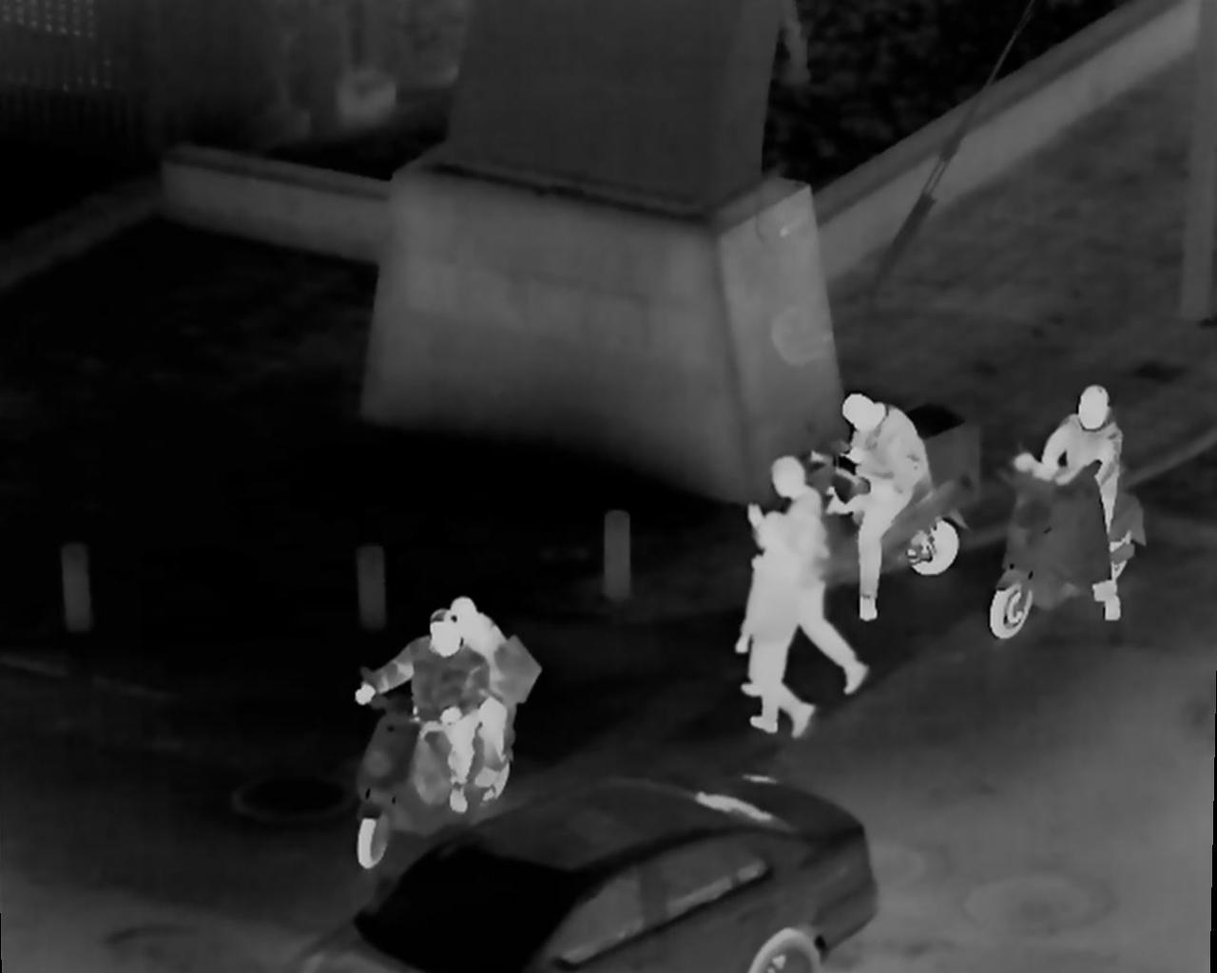person: (757, 454, 878, 683), (1018, 386, 1115, 617), (850, 388, 921, 602), (446, 598, 523, 781), (414, 611, 480, 791), (752, 518, 799, 741)
